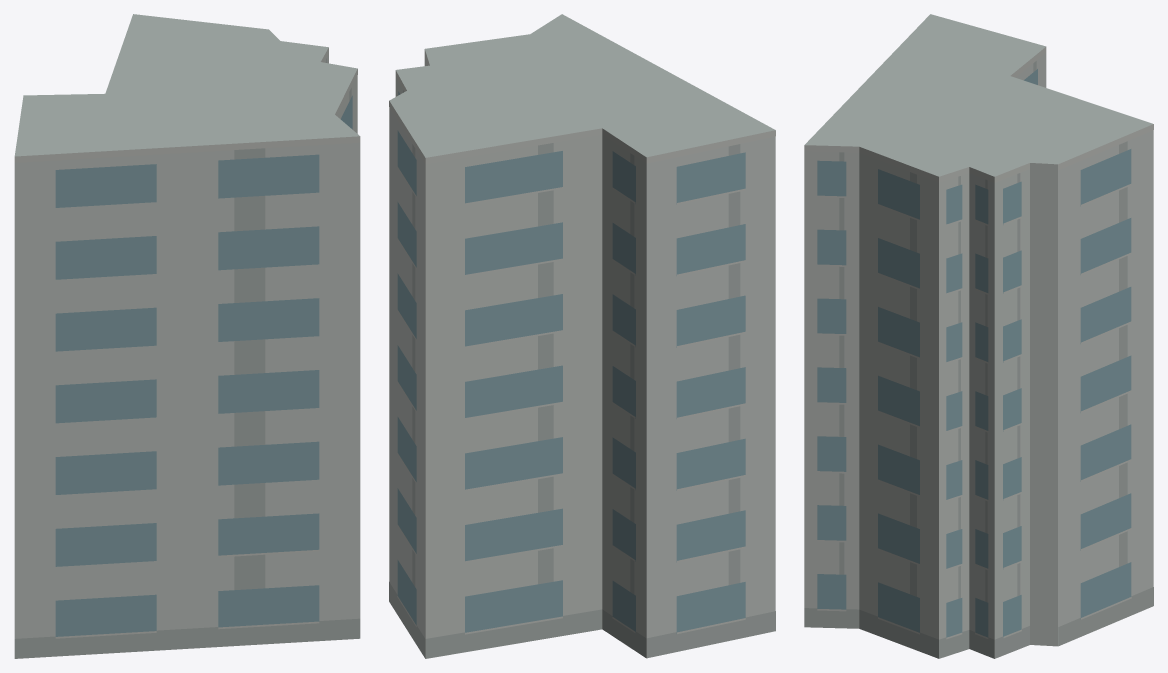
The model's file is survey-upis-32756857.glb.
3 renders of one model, left to right at view 1: azimuth 30°, elevation 25°; view 2: azimuth 150°, elevation 25°; view 3: azimuth 270°, elevation 25°, orthographic. The views are drawn at different scales.
Parts seen in each view (by area): view 1: survey-upis-32756857.tmp; view 2: survey-upis-32756857.tmp; view 3: survey-upis-32756857.tmp.
Boxes of the visible parts, bbox=[...] form: survey-upis-32756857.tmp: bbox=[14, 14, 360, 658]; survey-upis-32756857.tmp: bbox=[389, 14, 775, 658]; survey-upis-32756857.tmp: bbox=[804, 14, 1153, 658].
Bounding box in the file's own units: 13.84 × 19.1 × 12.56.
